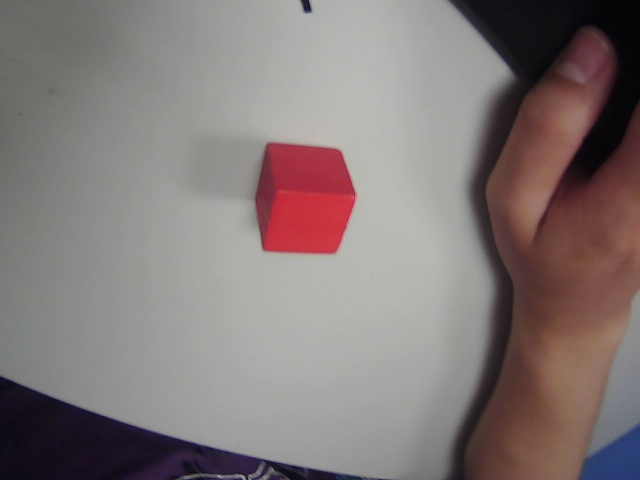redbox: (239, 127, 372, 265)
